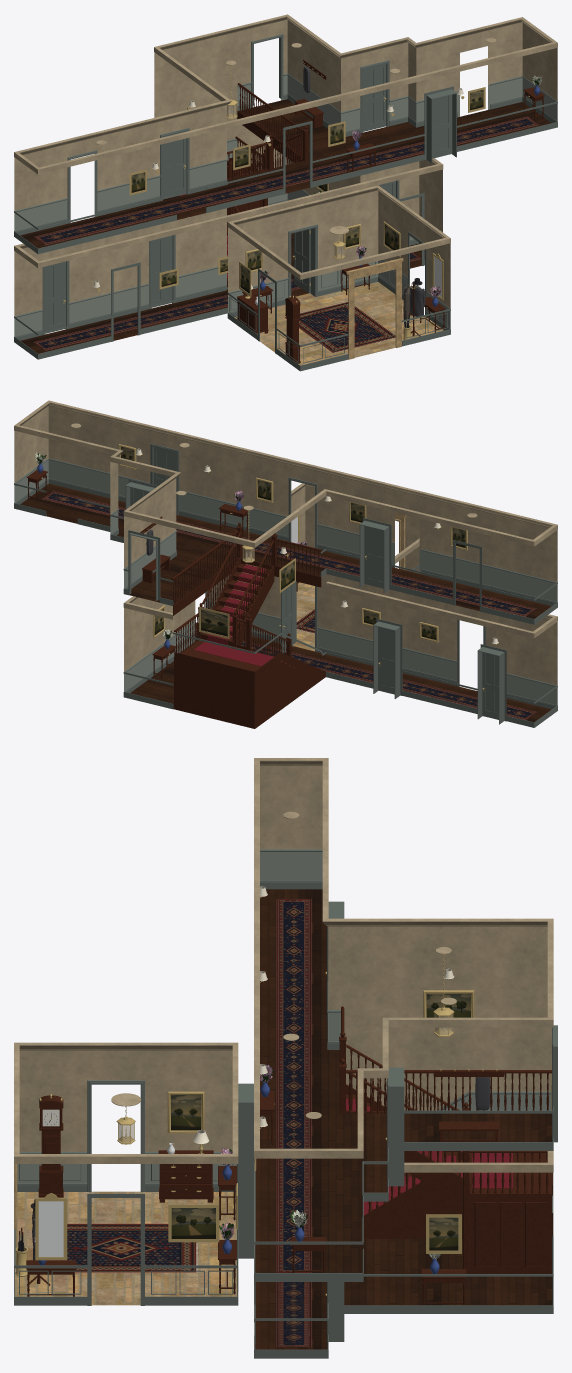
Rendered from room_hall.gltf.
The picture shows the model from 3 angles, top to bottom: view 1: azimuth 30°, elevation 25°; view 2: azimuth 150°, elevation 25°; view 3: azimuth 270°, elevation 25°; orthographic projection. The views are drawn at different scales.
Parts seen in each view (by area): view 1: 门厅·墙面、地面与线脚, 二楼·走廊长地毯, 门厅·主楼梯-col, 门厅·地毯, 门厅·走廊长地毯, 一楼·储藏室门（锁着）, 二楼·储物间门（锁着）, 二楼·康斯坦斯卧室门（锁着）, 二楼·主卧门（锁着）, 一楼·餐具库门（锁着）, 门厅·锁着的门的贴脸板, 门厅·北门 (+4 smaller); view 2: 门厅·墙面、地面与线脚, 门厅·主楼梯-col, 二楼·走廊长地毯, 门厅·锁着的门的贴脸板, 门厅·走廊长地毯, 二楼·康斯坦斯卧室门（锁着）, 一楼·储藏室门（锁着）, 一楼·餐具库门（锁着）, 楼梯平台·油画, 门厅·北门, 二楼·主卧门（锁着）, 二楼·走廊条案-col (+1 smaller); view 3: 门厅·墙面、地面与线脚, 门厅·主楼梯-col, 二楼·走廊长地毯, 门厅·地毯, 门厅·锁着的门的贴脸板, 门厅·走廊长地毯, 门厅·五斗柜-col, 门厅·窄镜, 门厅·落地钟（停在七点）, 门厅·东墙油画, 门厅·五斗柜上的油画, 一楼·楼梯旁油画 (+5 smaller).
Part boxes in pixels (x1,y1,x2,y2): 门厅·墙面、地面与线脚: (14, 14, 557, 371); 二楼·走廊长地毯: (33, 116, 539, 245); 门厅·主楼梯-col: (163, 83, 308, 289); 门厅·地毯: (284, 301, 395, 353); 门厅·走廊长地毯: (33, 252, 421, 350); 一楼·储藏室门（锁着）: (45, 261, 65, 331); 二楼·储物间门（锁着）: (363, 64, 386, 131); 二楼·康斯坦斯卧室门（锁着）: (163, 131, 186, 197); 二楼·主卧门（锁着）: (432, 95, 452, 158); 一楼·餐具库门（锁着）: (151, 235, 172, 305); 门厅·锁着的门的贴脸板: (66, 63, 456, 329); 门厅·北门: (292, 229, 310, 293); 门厅·墙面、地面与线脚: (14, 400, 557, 728); 门厅·主楼梯-col: (171, 522, 325, 728); 二楼·走廊长地毯: (41, 490, 536, 616); 门厅·锁着的门的贴脸板: (125, 447, 504, 724); 门厅·走廊长地毯: (195, 629, 537, 720); 二楼·康斯坦斯卧室门（锁着）: (364, 526, 383, 588); 一楼·储藏室门（锁着）: (482, 652, 498, 719); 一楼·餐具库门（锁着）: (378, 627, 394, 694); 楼梯平台·油画: (199, 606, 229, 639); 门厅·北门: (279, 584, 293, 653); 二楼·主卧门（锁着）: (153, 447, 176, 486); 二楼·走廊条案-col: (218, 501, 247, 536); 门厅·墙面、地面与线脚: (14, 758, 557, 1358); 门厅·主楼梯-col: (339, 1006, 552, 1273); 二楼·走廊长地毯: (276, 899, 311, 1272); 门厅·地毯: (67, 1223, 197, 1272); 门厅·锁着的门的贴脸板: (238, 901, 404, 1341); 门厅·走廊长地毯: (276, 1282, 311, 1347); 门厅·五斗柜-col: (158, 1150, 213, 1202); 门厅·窄镜: (35, 1193, 67, 1260); 门厅·落地钟（停在七点）: (38, 1094, 63, 1197); 门厅·东墙油画: (168, 1204, 219, 1242); 门厅·五斗柜上的油画: (167, 1091, 204, 1133); 一楼·楼梯旁油画: (426, 1214, 461, 1253).
Bounding box in the file's own units: 18.59 × 6.5 × 10.88.
32 materials, 13 textured.
